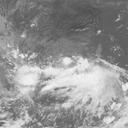cyclone: (46, 57, 121, 111)
